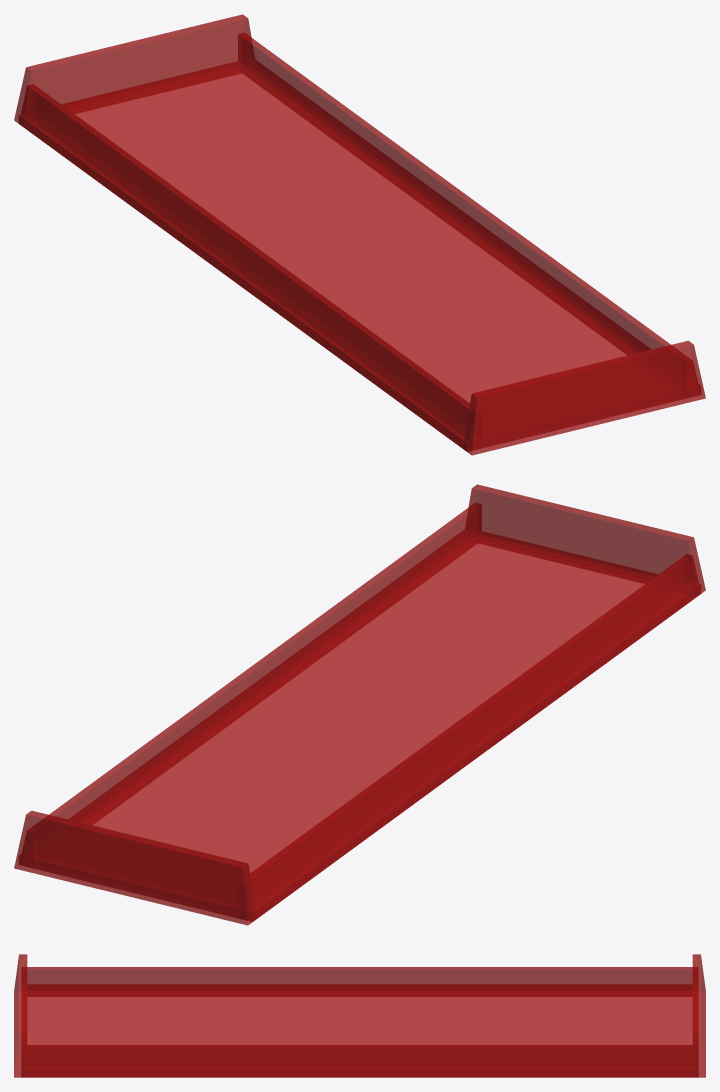
The model's file is SM_Veh_Barge_Tray_01_Collision.fbx.
The picture shows the model from 3 angles, top to bottom: view 1: azimuth 30°, elevation 25°; view 2: azimuth 150°, elevation 25°; view 3: azimuth 270°, elevation 25°; orthographic projection. The views are drawn at different scales.
Visible parts, largest first — view 1: SM_Veh_Barge_Tray_01_Collision; view 2: SM_Veh_Barge_Tray_01_Collision; view 3: SM_Veh_Barge_Tray_01_Collision.
Part boxes in pixels (x1=…): SM_Veh_Barge_Tray_01_Collision: x1=14, y1=14, x2=705, y2=455; SM_Veh_Barge_Tray_01_Collision: x1=14, y1=484, x2=705, y2=925; SM_Veh_Barge_Tray_01_Collision: x1=14, y1=954, x2=705, y2=1077.
Bounding box in the file's own units: 902 × 197 × 3057.
